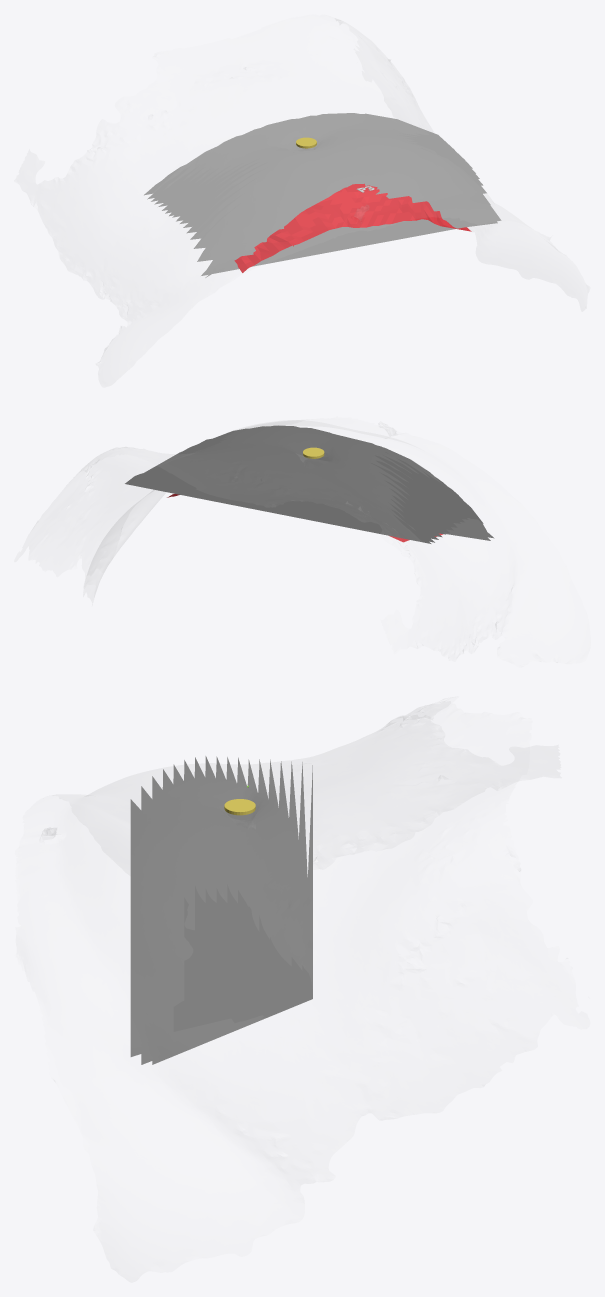
The picture shows the model from 3 angles, top to bottom: view 1: azimuth 30°, elevation 25°; view 2: azimuth 150°, elevation 25°; view 3: azimuth 270°, elevation 25°; orthographic projection. The views are drawn at different scales.
Parts seen in each view (by area): view 1: 102_skin, TIN; view 2: 102_skin, 102_clean; view 3: 102_skin.
Part boxes in pixels (left/top/right/bottom): 102_skin: left=144, top=113, right=501, bottom=277; TIN: left=234, top=183, right=471, bottom=272; 102_skin: left=125, top=425, right=494, bottom=543; 102_clean: left=80, top=420, right=511, bottom=652; 102_skin: left=130, top=756, right=312, bottom=1064.
Size of the model in its own units: 38.22 by 18.67 by 26.9.
